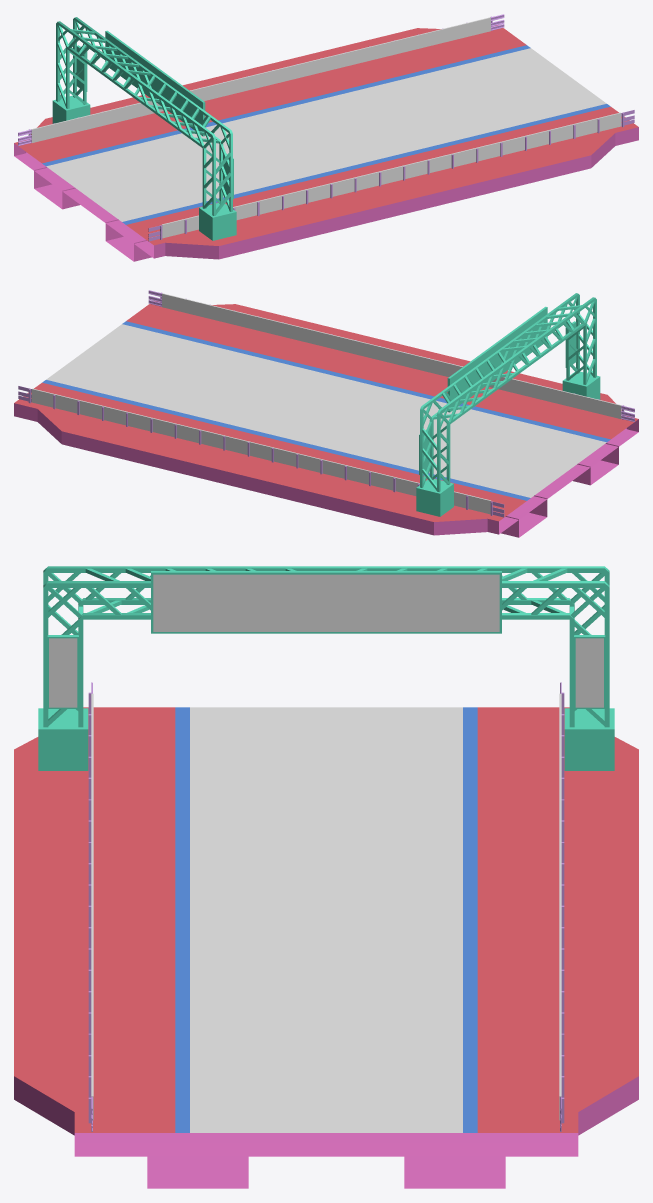
Rendered from RoadFinnishLine.fbx.
3 views of the same model, one above another, from view 1: azimuth 30°, elevation 25°; view 2: azimuth 150°, elevation 25°; view 3: azimuth 270°, elevation 25° (orthographic). The views are drawn at different scales.
Visible parts, largest first — view 1: RoadFinnhisline, RailingFinnhisline, RailingFinnhislineBoard; view 2: RoadFinnhisline, RailingFinnhisline, RailingFinnhislineBoard; view 3: RoadFinnhisline, RailingFinnhislineBoard, RailingFinnhisline.
Part boxes in pixels (x1,y1,x2,y2): RoadFinnhisline: (14, 25, 638, 261); RailingFinnhisline: (18, 14, 634, 241); RailingFinnhislineBoard: (52, 17, 236, 240); RoadFinnhisline: (14, 301, 638, 537); RailingFinnhisline: (18, 290, 634, 517); RailingFinnhislineBoard: (416, 293, 600, 516); RoadFinnhisline: (14, 707, 638, 1188); RailingFinnhislineBoard: (38, 566, 614, 770); RailingFinnhisline: (88, 682, 564, 1131).
Bounding box in the file's own units: 4008 × 1113 × 2483.
